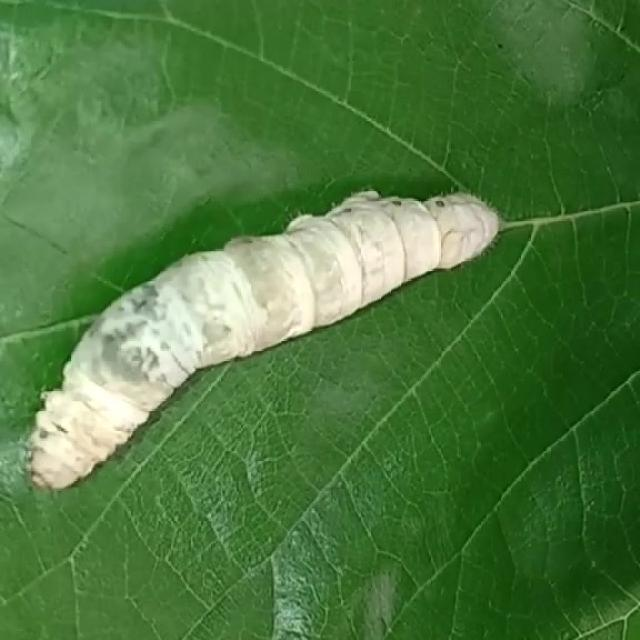Grasserie: (22, 134, 510, 516)
